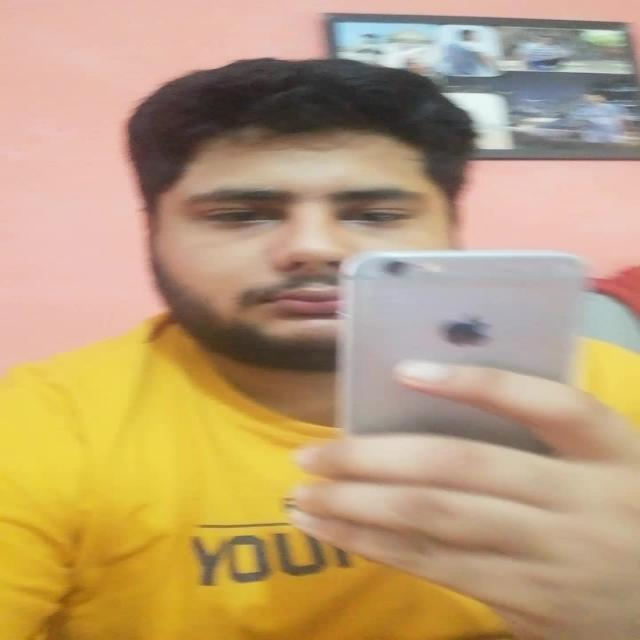Phone: (340, 252, 582, 432)
